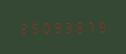five: (28, 20, 38, 34)
nine: (50, 20, 60, 34), (94, 19, 104, 33)
seven: (83, 19, 93, 33)
six: (72, 19, 82, 33)
three: (61, 20, 71, 33)
two: (17, 20, 27, 34)
zero: (39, 20, 49, 34)
